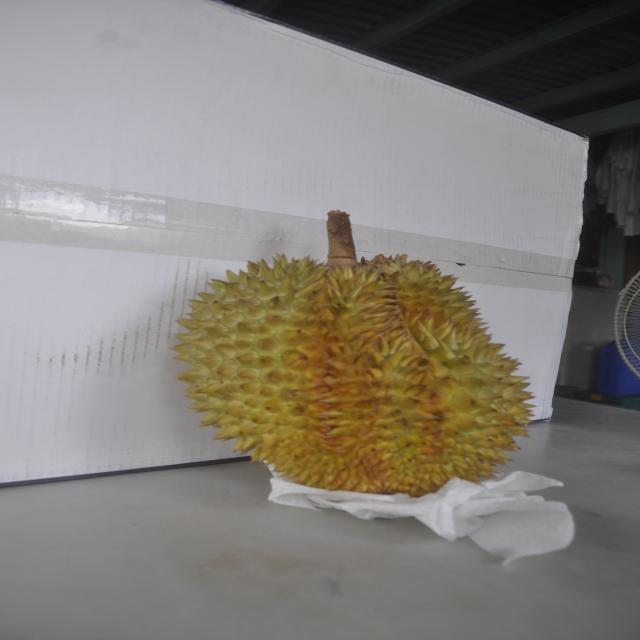mature: (168, 226, 538, 494)
